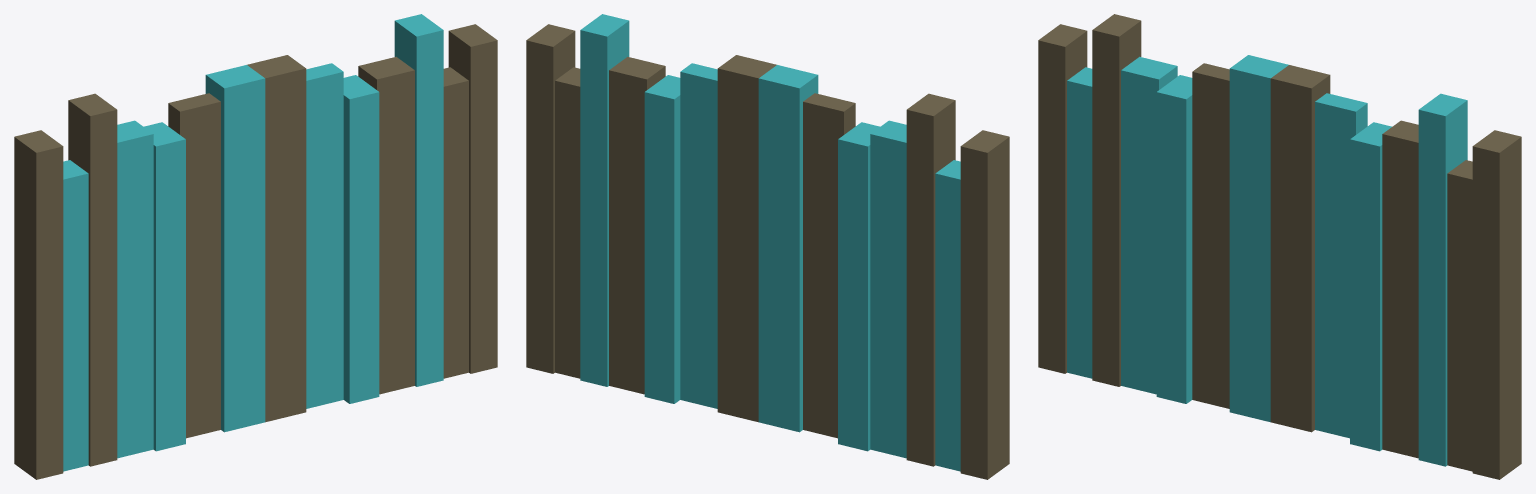
File: Gate.fbx
3 views of the same model, side by side, from view 1: azimuth 30°, elevation 25°; view 2: azimuth 150°, elevation 25°; view 3: azimuth 330°, elevation 25° (orthographic).
Visible parts, largest first — view 1: pasted__polySurface13, pasted__polySurface4, pasted__polySurface14, pasted__polySurface15, pasted__polySurface8, pasted__polySurface17, pasted__polySurface11, pasted__polySurface10, pasted__polySurface16, pasted__polySurface18, pasted__polySurface20, pasted__polySurface9 (+2 smaller); view 2: pasted__polySurface13, pasted__polySurface4, pasted__polySurface14, pasted__polySurface15, pasted__polySurface8, pasted__polySurface17, pasted__polySurface11, pasted__polySurface10, pasted__polySurface16, pasted__polySurface18, pasted__polySurface20, pasted__polySurface9 (+2 smaller); view 3: pasted__polySurface20, pasted__polySurface14, pasted__polySurface4, pasted__polySurface8, pasted__polySurface15, pasted__polySurface10, pasted__polySurface18, pasted__polySurface17, pasted__polySurface9, pasted__polySurface11, pasted__polySurface13, pasted__polySurface16 (+2 smaller).
Boxes of the visible parts, box(x1,y1,x2,y2) form: pasted__polySurface13: box(14, 130, 63, 479); pasted__polySurface4: box(205, 65, 265, 432); pasted__polySurface14: box(247, 55, 306, 422); pasted__polySurface15: box(306, 63, 343, 408); pasted__polySurface8: box(168, 93, 220, 438); pasted__polySurface17: box(358, 56, 414, 394); pasted__polySurface11: box(68, 93, 117, 466); pasted__polySurface10: box(117, 120, 153, 458); pasted__polySurface16: box(343, 75, 379, 403); pasted__polySurface18: box(394, 14, 443, 386); pasted__polySurface20: box(448, 24, 497, 373); pasted__polySurface9: box(144, 122, 185, 451); pasted__polySurface13: box(960, 130, 1009, 479); pasted__polySurface4: box(758, 65, 818, 432); pasted__polySurface14: box(717, 55, 776, 422); pasted__polySurface15: box(680, 63, 717, 408); pasted__polySurface8: box(803, 93, 855, 438); pasted__polySurface17: box(609, 56, 665, 394); pasted__polySurface11: box(906, 93, 955, 466); pasted__polySurface10: box(870, 120, 906, 458); pasted__polySurface16: box(644, 75, 680, 403); pasted__polySurface18: box(580, 14, 629, 386); pasted__polySurface20: box(526, 24, 575, 373); pasted__polySurface9: box(838, 122, 879, 451); pasted__polySurface20: box(1472, 130, 1521, 479); pasted__polySurface14: box(1270, 65, 1330, 432); pasted__polySurface4: box(1229, 55, 1288, 422); pasted__polySurface8: box(1192, 63, 1229, 408); pasted__polySurface15: box(1315, 93, 1367, 438); pasted__polySurface10: box(1121, 56, 1177, 394); pasted__polySurface18: box(1418, 93, 1467, 466); pasted__polySurface17: box(1382, 120, 1418, 458); pasted__polySurface9: box(1156, 75, 1192, 403); pasted__polySurface11: box(1092, 14, 1141, 386); pasted__polySurface13: box(1038, 24, 1087, 373); pasted__polySurface16: box(1350, 122, 1391, 451).
Bounding box in the file's own units: 57.18 × 41.5 × 5.04.
